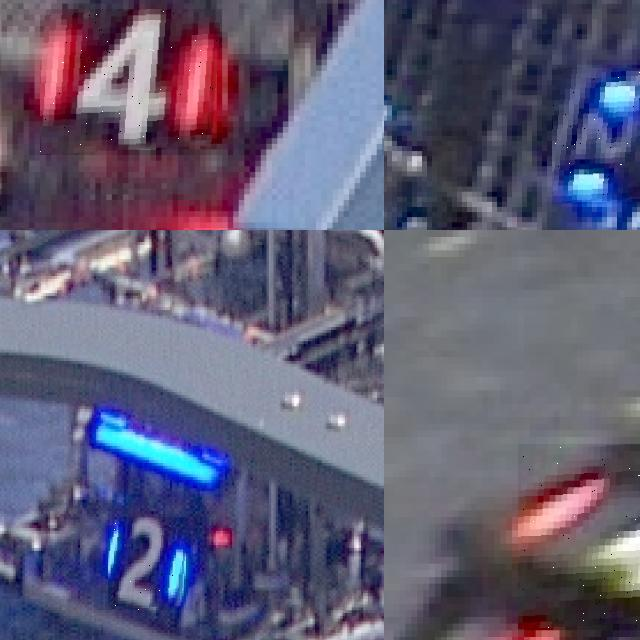B2: (552, 67, 640, 204), (108, 517, 188, 610)
R4: (40, 9, 222, 155), (518, 443, 640, 630)
